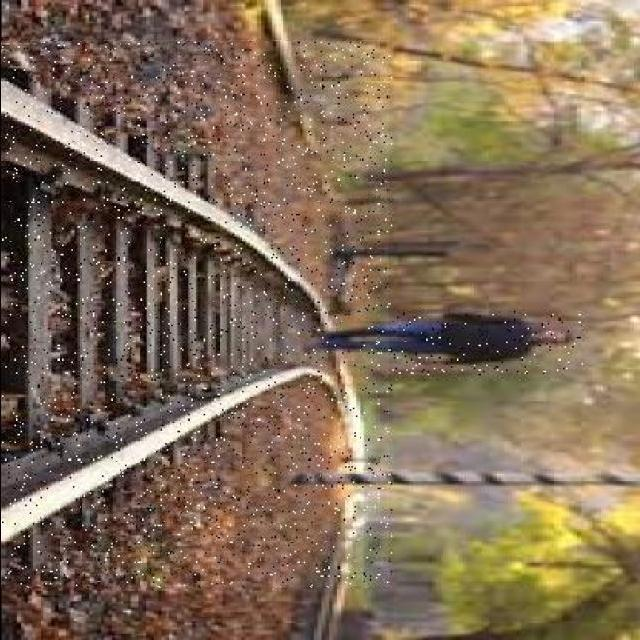rail: (2, 41, 390, 588)
